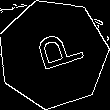P_W: (23, 29, 83, 79)
